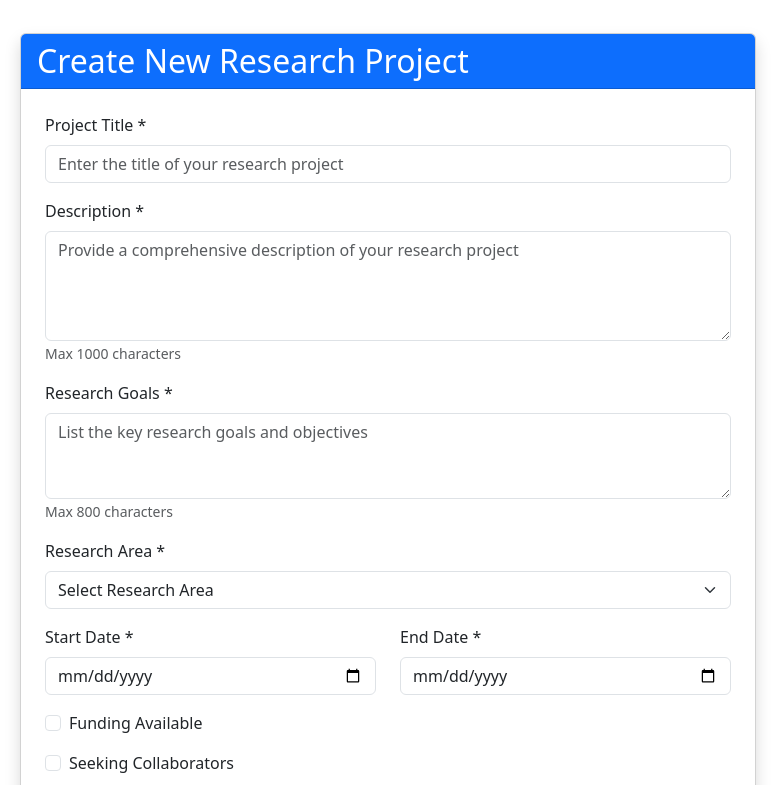
Test: CreateProject › displays error message if submission fails
Type "Fail Case" into the field labelled "Project Title *". click: (388, 164)
box: [45, 145, 731, 183]
Type "desc" into the text box labelled "Description *". click: (388, 286)
box: [45, 231, 731, 341]
Type "goals" into the text box labelled "Research Goals *". click: (388, 456)
box: [45, 413, 731, 499]
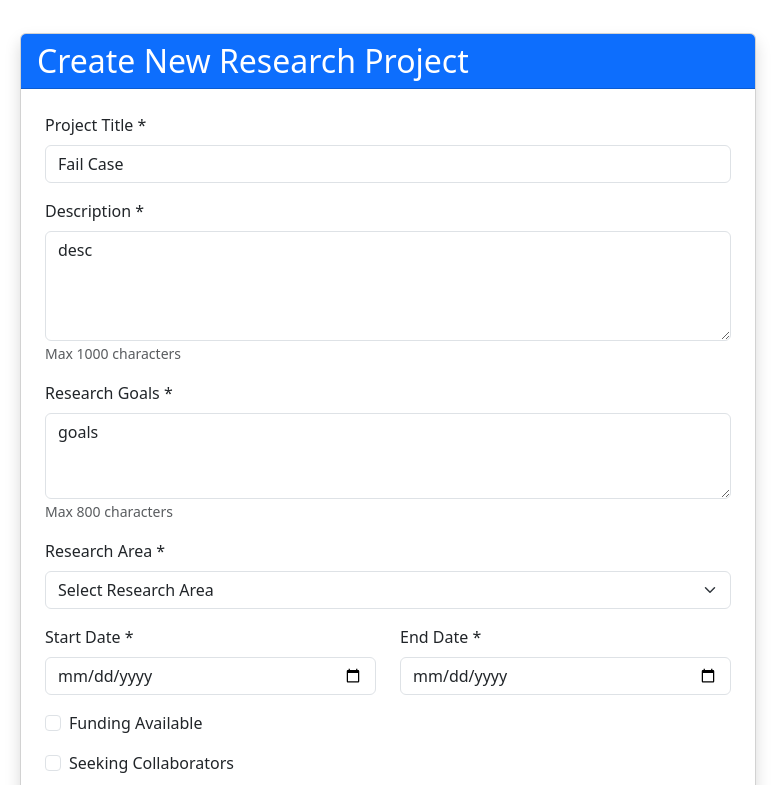
Select "Other" in the dropdown labelled "Research Area *". click: (388, 590)
box: [45, 571, 731, 609]
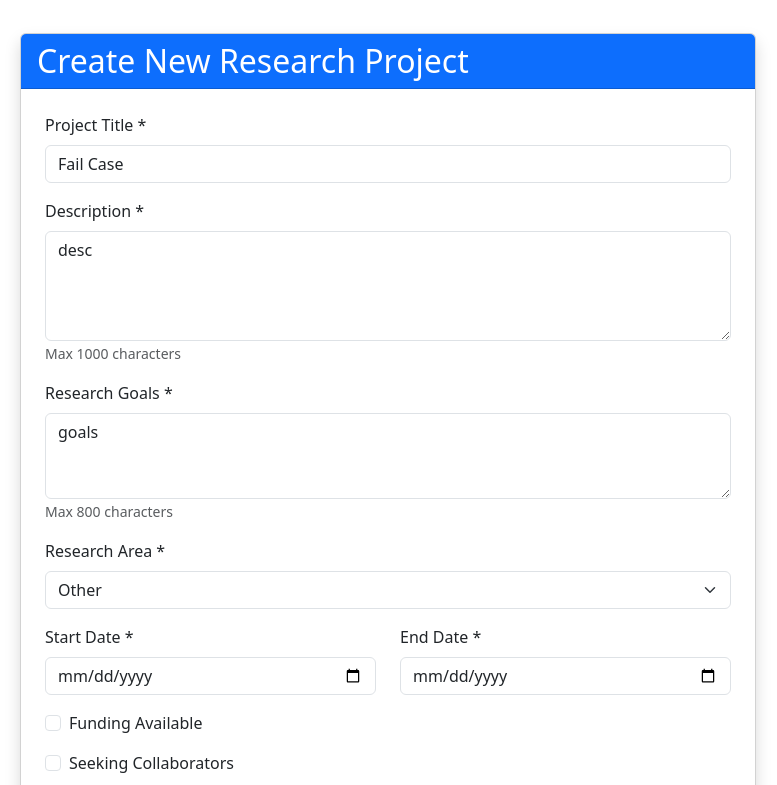
Type "2025-01-01" into the date field labelled "Start Date *". click: (210, 676)
box: [45, 657, 376, 695]
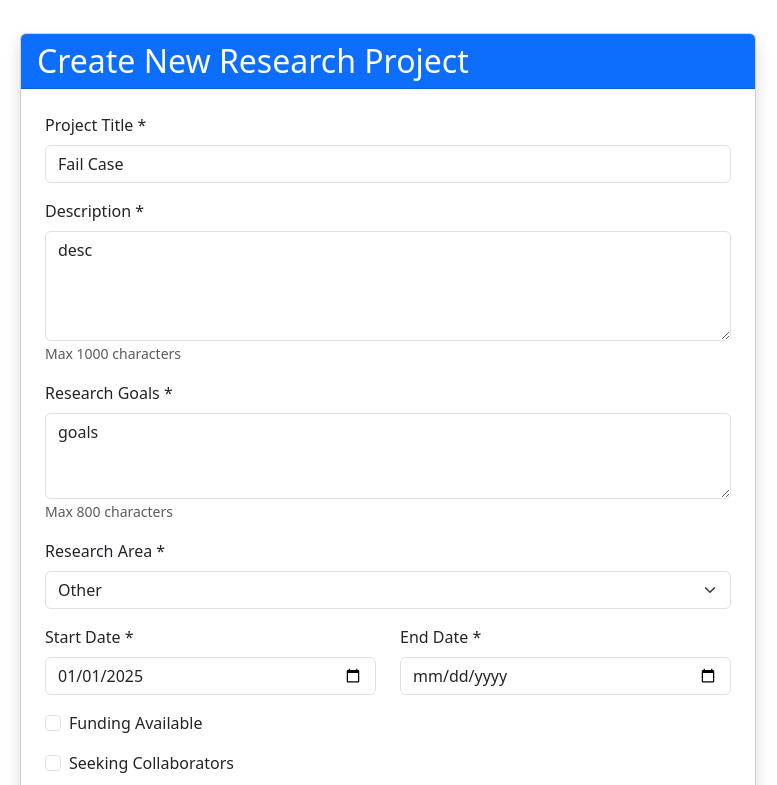
Type "2025-12-31" into the date field labelled "End Date *". click: (566, 676)
box: [400, 657, 731, 695]
(page scrolled)
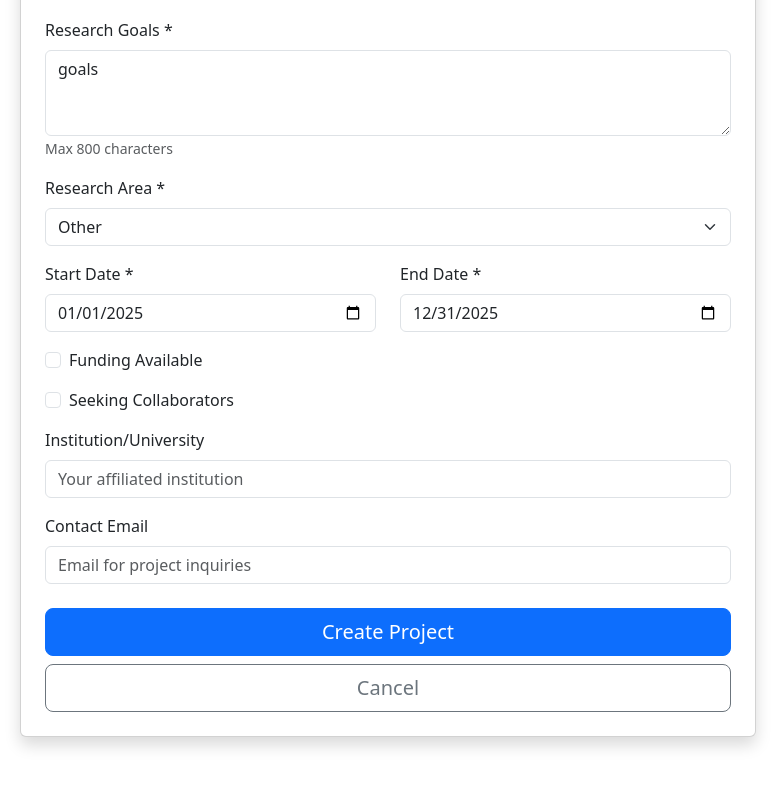
Type "fail@example.com" into the field labelled "Contact Email". click: (388, 565)
box: [45, 546, 731, 584]
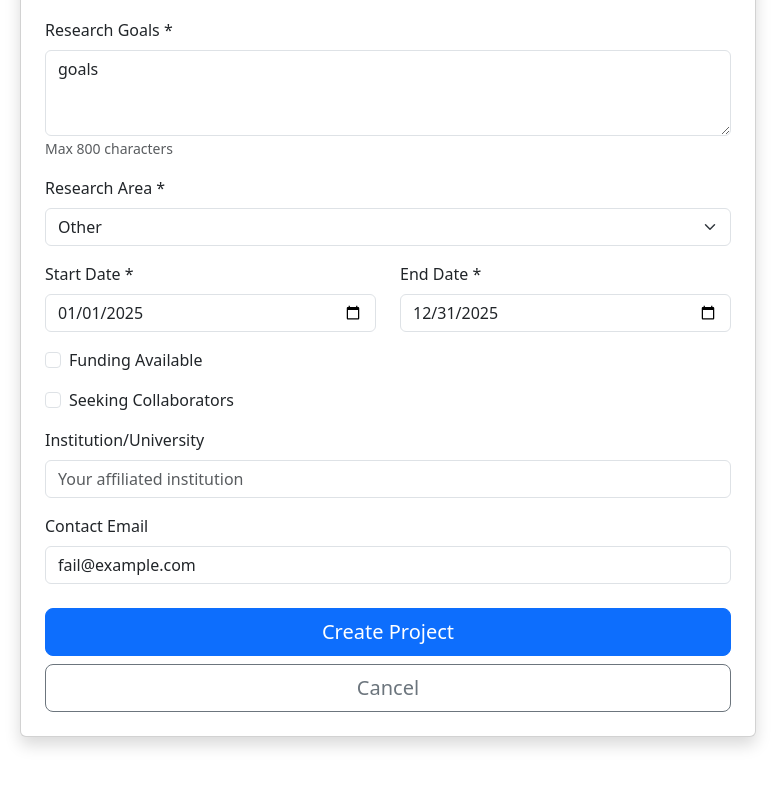
Click the button "Create Project". click: click(388, 632)
box: [45, 608, 731, 656]
(page scrolled)
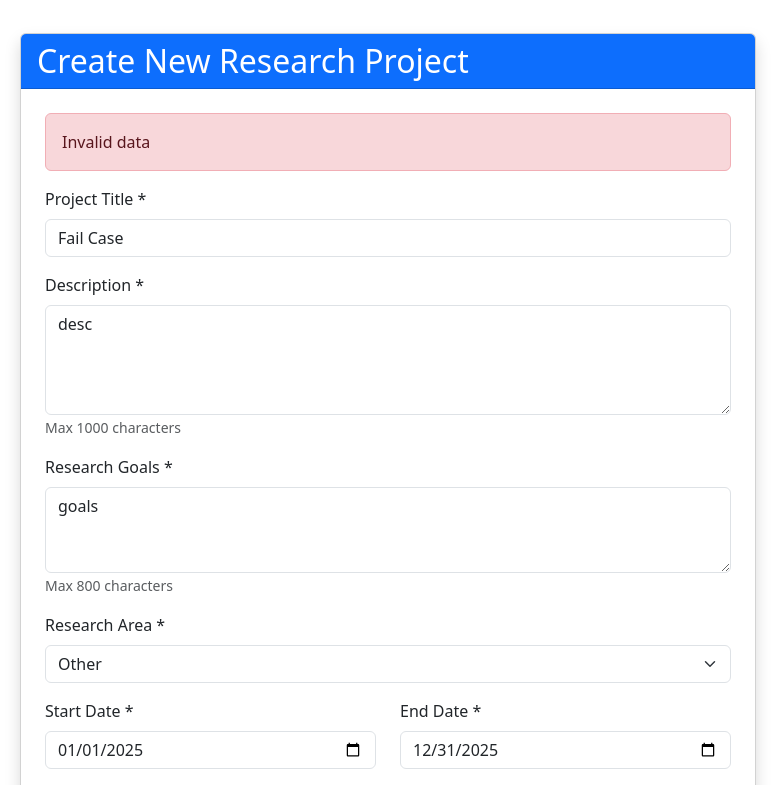
Expected: the message with test id "form-error" reads "Invalid data", [62, 131, 150, 153]
